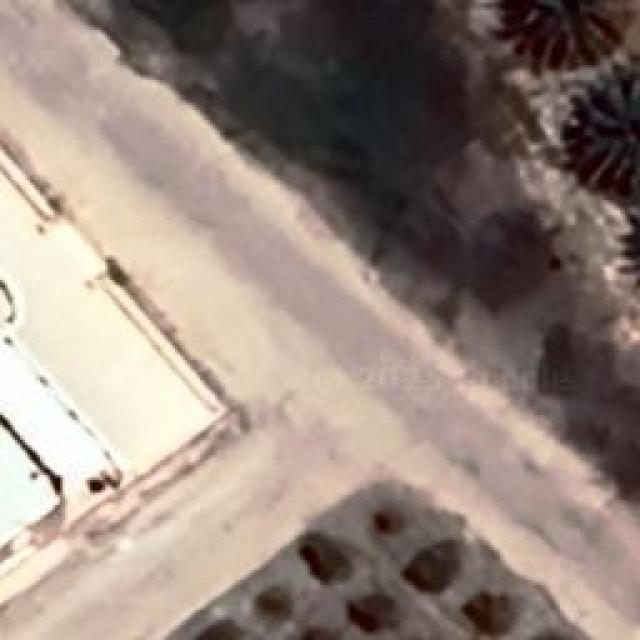PalmTree: (17, 89, 632, 247), (123, 29, 562, 89), (580, 70, 635, 190)
